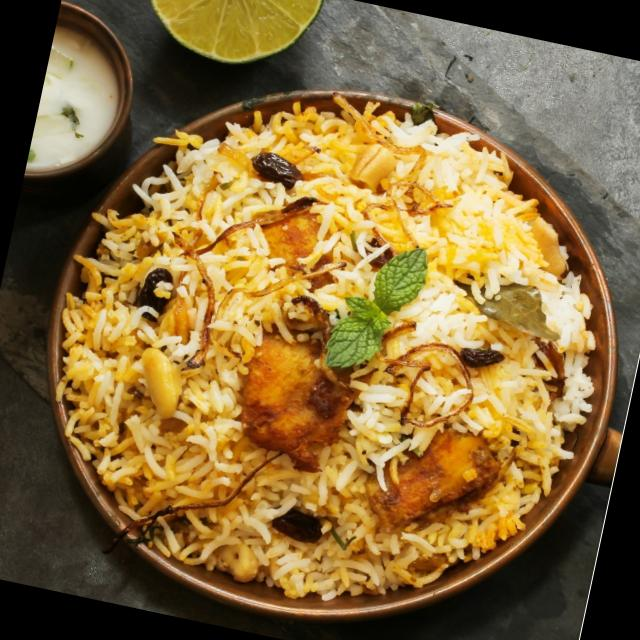Biryani: (10, 44, 640, 640)
